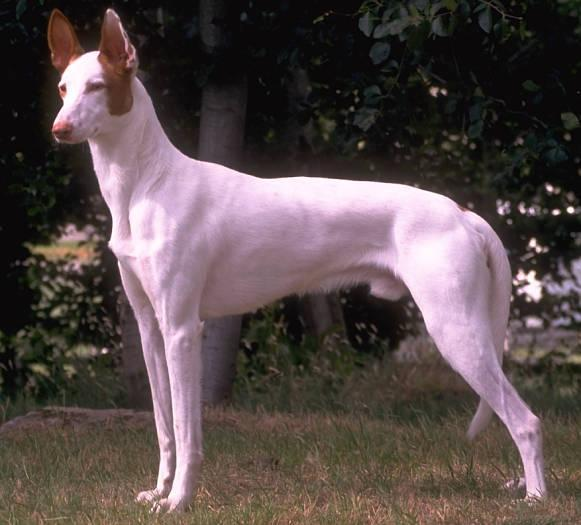Ibizan_hound: (42, 3, 548, 514)
